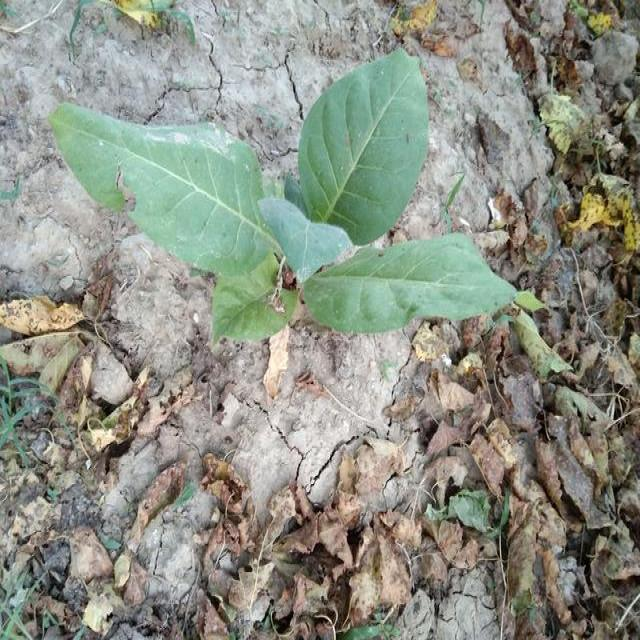crop: (66, 56, 534, 342)
